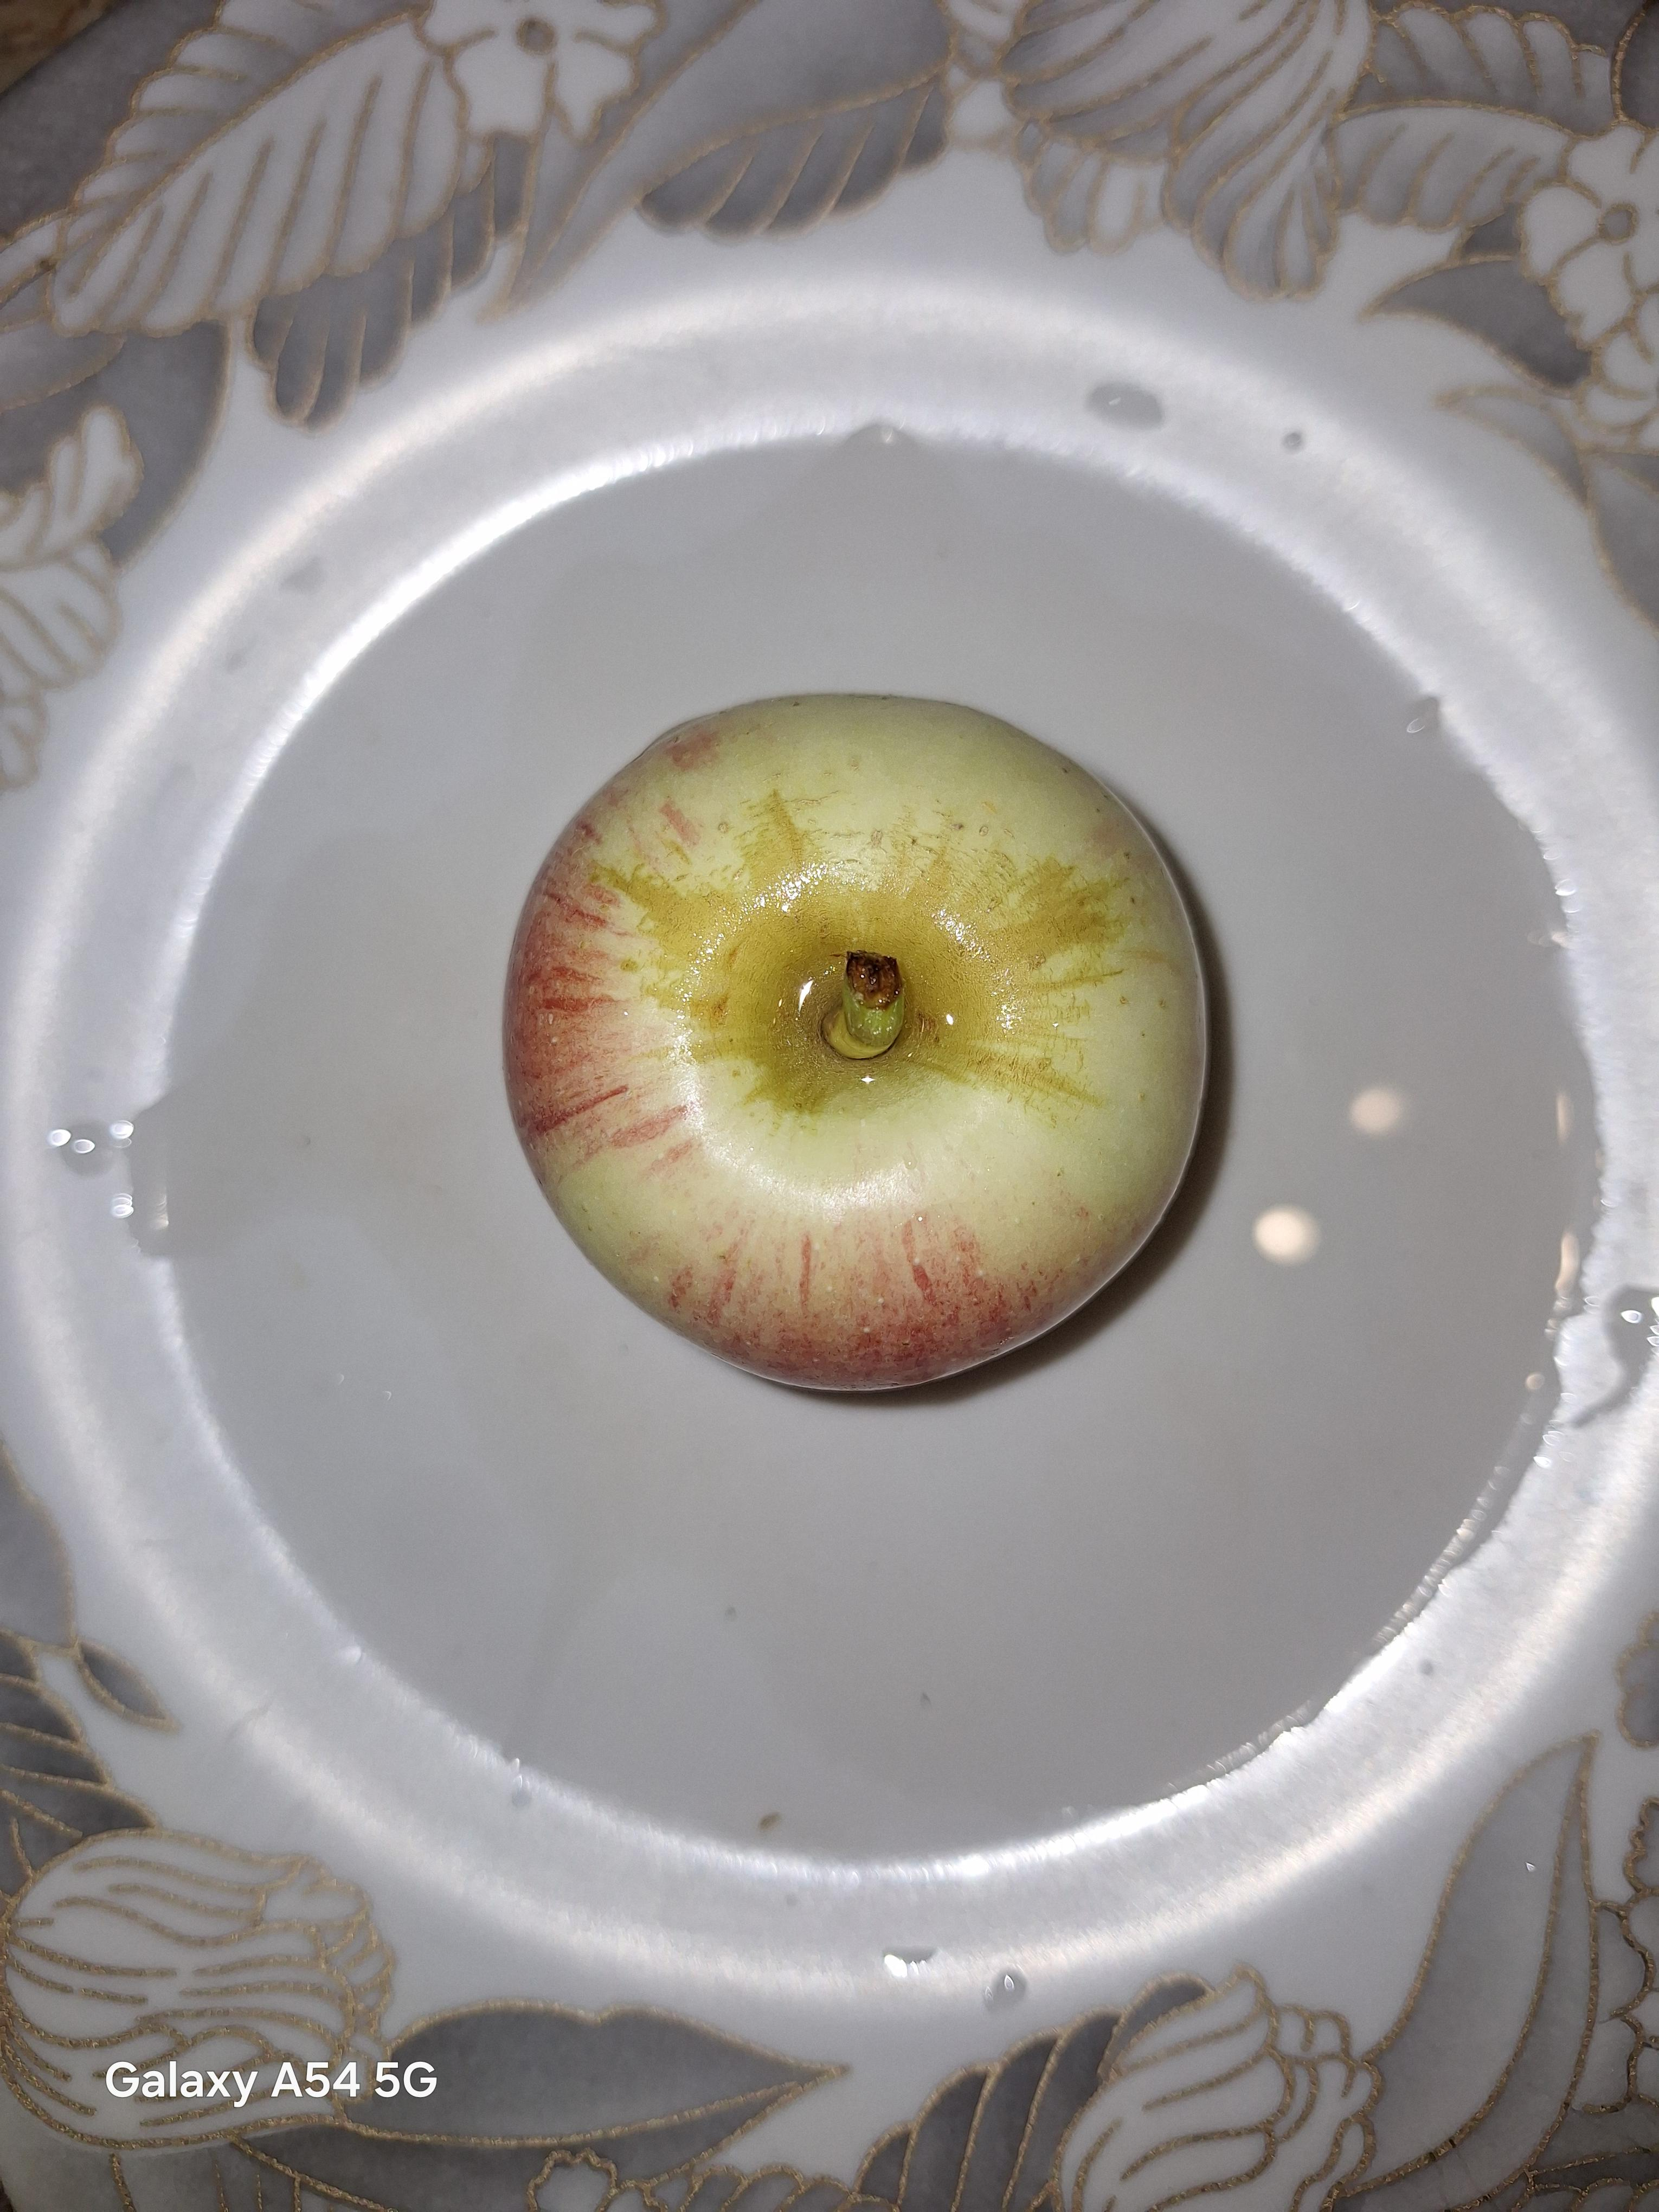non-mango: (483, 674, 1227, 1425)
